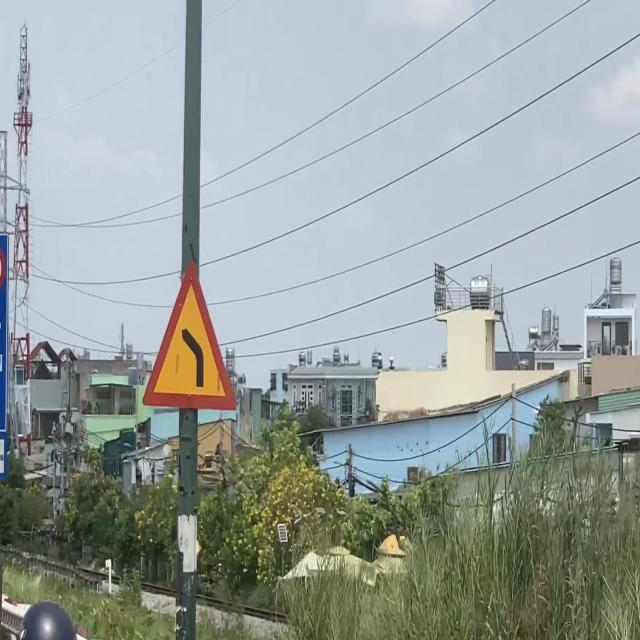Nguy hiem: (141, 257, 238, 413)
